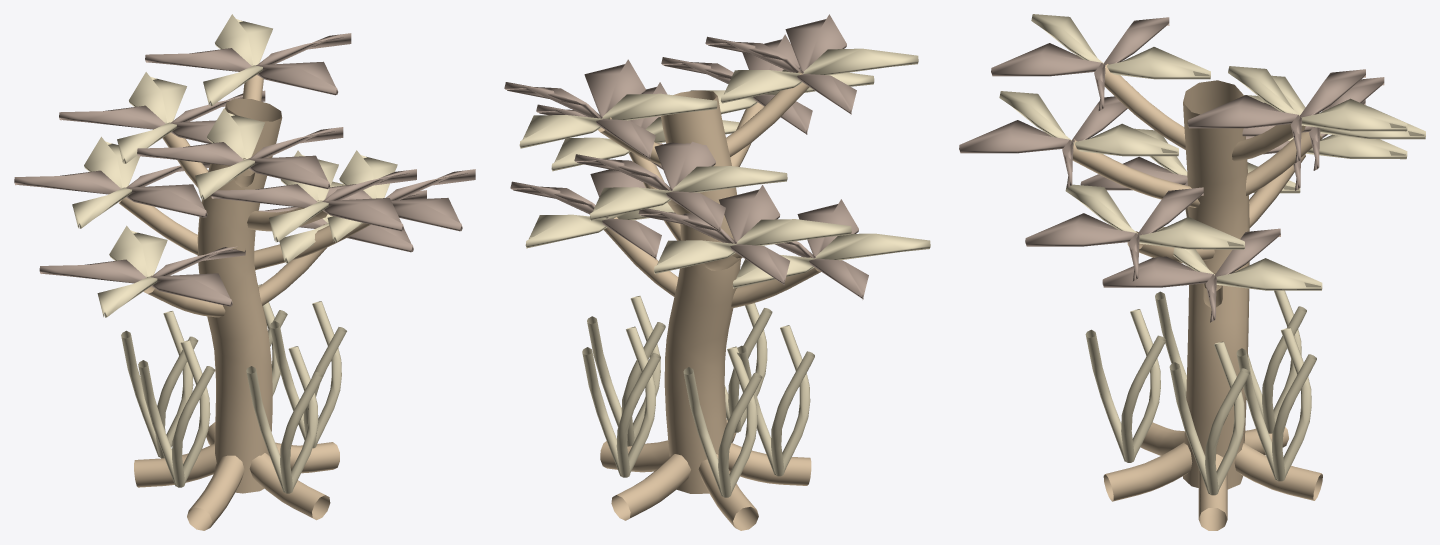
Rendered from bio_canopy_tree_14_far.glb.
The picture shows the model from 3 angles, left to right: view 1: azimuth 30°, elevation 25°; view 2: azimuth 150°, elevation 25°; view 3: azimuth 270°, elevation 25°; orthographic projection. The views are drawn at different scales.
Visible parts, largest first — view 1: Buttressed trunk, Broad canopy leaf.035, Broad canopy leaf.015, Broad canopy leaf.010, Broad canopy leaf.020, Spiral filament.006, Spiral filament.012, Broad canopy leaf.005, Spiral filament, Spiral filament.003, Broad canopy leaf.030, Broad canopy leaf.021 (+10 smaller); view 2: Buttressed trunk, Broad canopy leaf.015, Broad canopy leaf.035, Broad canopy leaf.005, Spiral filament.009, Broad canopy leaf.030, Spiral filament.003, Broad canopy leaf.006, Broad canopy leaf.031, Broad canopy leaf.016, Broad canopy leaf.036, Spiral filament.012 (+10 smaller); view 3: Buttressed trunk, Spiral filament, Spiral filament.006, Spiral filament.009, Broad canopy leaf.035, Broad canopy leaf.015, Broad canopy leaf.025, Broad canopy leaf, Broad canopy leaf.010, Broad canopy leaf.016, Broad canopy leaf.011, Broad canopy leaf.026 (+9 smaller).
Part boxes in pixels (<box>): Buttressed trunk: <box>119,75,370,530</box>; Broad canopy leaf.035: <box>137,127,343,189</box>; Broad canopy leaf.015: <box>145,33,351,95</box>; Broad canopy leaf.010: <box>211,169,416,231</box>; Broad canopy leaf.020: <box>39,246,245,306</box>; Spiral filament.006: <box>246,346,323,493</box>; Spiral filament.012: <box>138,340,215,487</box>; Broad canopy leaf.005: <box>14,162,209,217</box>; Spiral filament: <box>270,301,346,448</box>; Spiral filament.003: <box>121,311,198,458</box>; Broad canopy leaf.030: <box>59,90,265,143</box>; Broad canopy leaf.021: <box>97,225,167,317</box>; Buttressed trunk: <box>598,71,820,530</box>; Broad canopy leaf.015: <box>504,59,655,159</box>; Broad canopy leaf.035: <box>705,14,856,114</box>; Broad canopy leaf.005: <box>638,185,789,284</box>; Spiral filament.009: <box>582,326,660,477</box>; Broad canopy leaf.030: <box>574,141,725,232</box>; Spiral filament.003: <box>683,346,762,497</box>; Broad canopy leaf.006: <box>654,219,851,273</box>; Broad canopy leaf.031: <box>589,166,787,220</box>; Broad canopy leaf.016: <box>519,93,717,148</box>; Broad canopy leaf.036: <box>720,48,918,103</box>; Spiral filament.012: <box>737,325,814,476</box>; Buttressed trunk: <box>1072,64,1322,530</box>; Spiral filament: <box>1169,341,1249,495</box>; Spiral filament.006: <box>1085,309,1166,462</box>; Spiral filament.009: <box>1236,327,1316,481</box>; Broad canopy leaf.035: <box>991,17,1169,110</box>; Broad canopy leaf.015: <box>1187,69,1365,163</box>; Broad canopy leaf.025: <box>1025,187,1203,281</box>; Broad canopy leaf: <box>1102,228,1280,322</box>; Broad canopy leaf.010: <box>959,96,1127,187</box>; Broad canopy leaf.016: <box>1228,66,1407,131</box>; Broad canopy leaf.011: <box>999,91,1178,156</box>; Broad canopy leaf.026: <box>1065,184,1244,249</box>.
Bounding box in the file's own units: 2.97 × 2.99 × 3.05.
